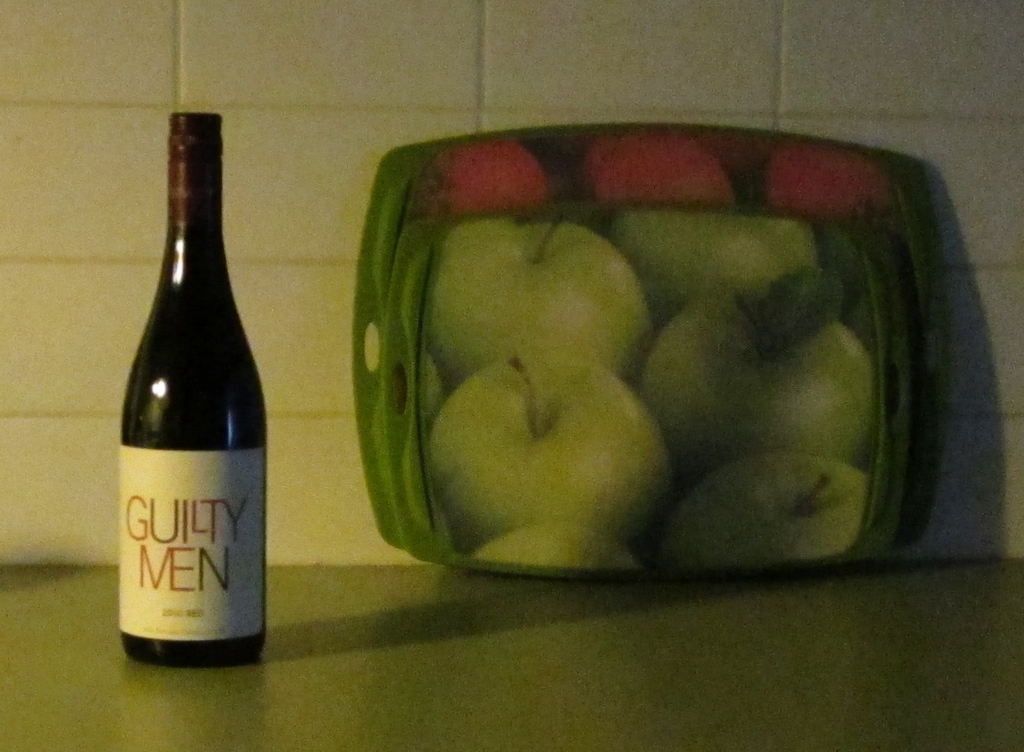Apple: (423, 212, 883, 577)
